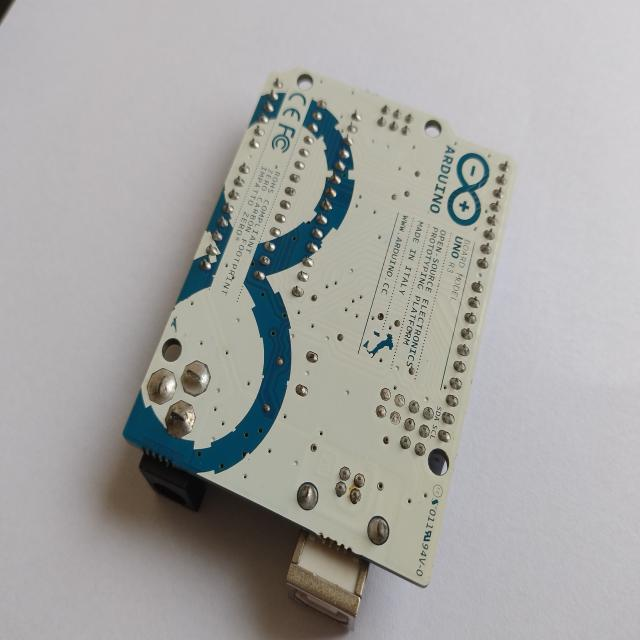arduino: (121, 50, 522, 634)
